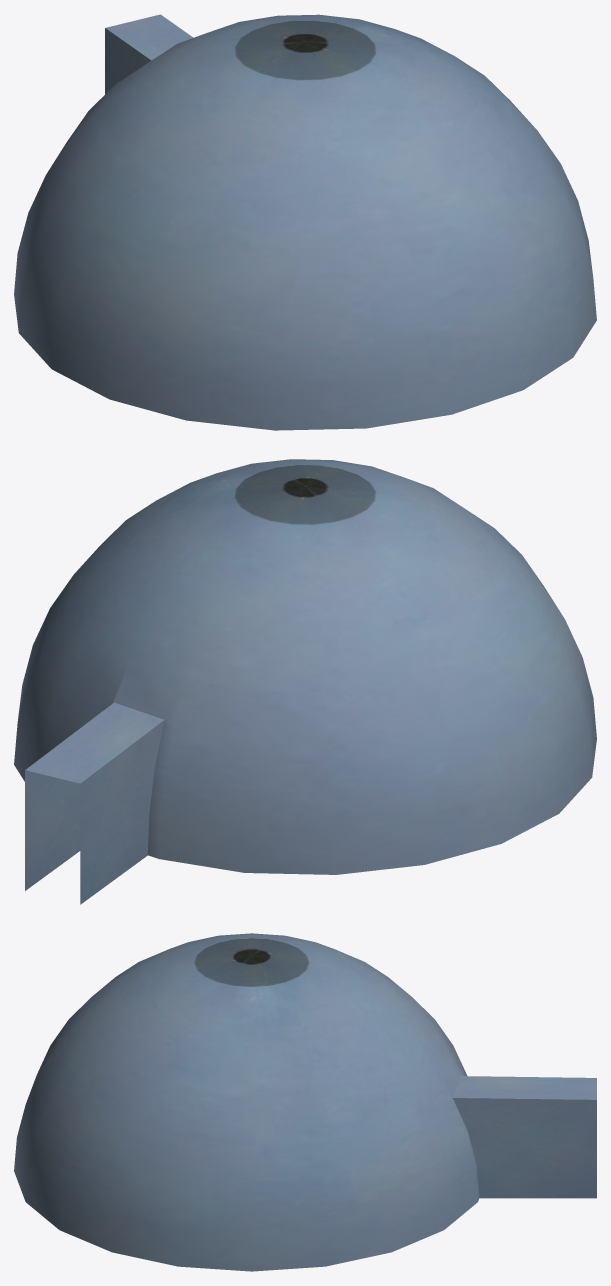
Rendered from DomoIntCristal.obj.
3 views of the same model, one above another, from view 1: azimuth 30°, elevation 25°; view 2: azimuth 150°, elevation 25°; view 3: azimuth 270°, elevation 25° (orthographic). The views are drawn at different scales.
Visible parts, largest first — view 1: pSphere2; view 2: pSphere2; view 3: pSphere2.
Boxes of the visible parts, <box> form: pSphere2: <box>14,14,596,430</box>; pSphere2: <box>14,459,596,904</box>; pSphere2: <box>14,933,596,1271</box>.
Size of the model in its own units: 16.32 by 8.17 by 20.
Materials: 2 (2 with a texture image).
